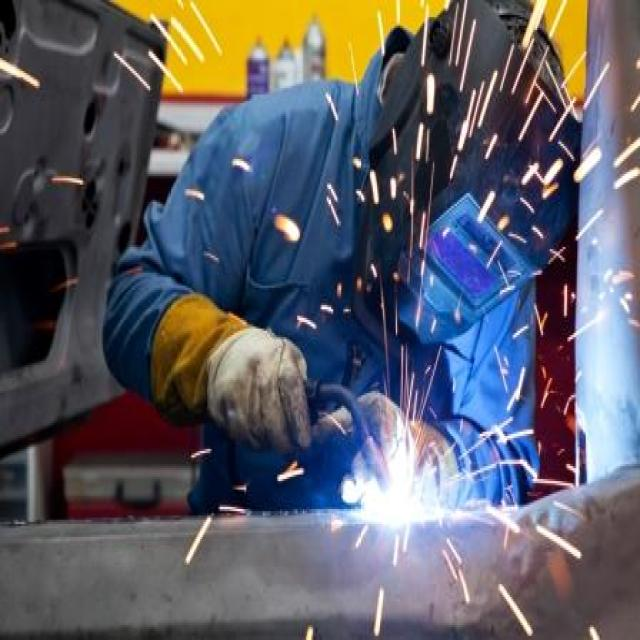welding: (370, 483, 423, 531)
